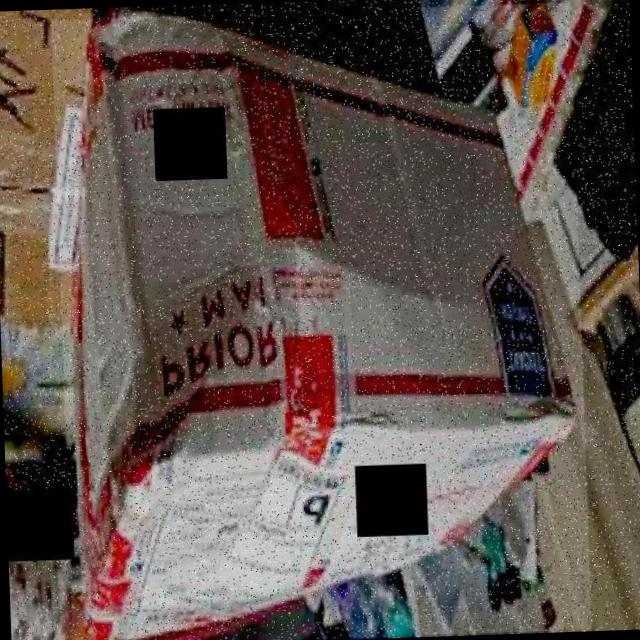box: (50, 1, 591, 640)
